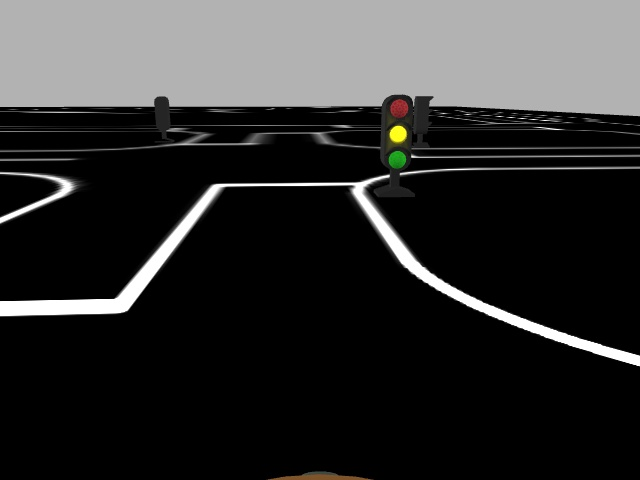yellow_light: (381, 94, 413, 171)
